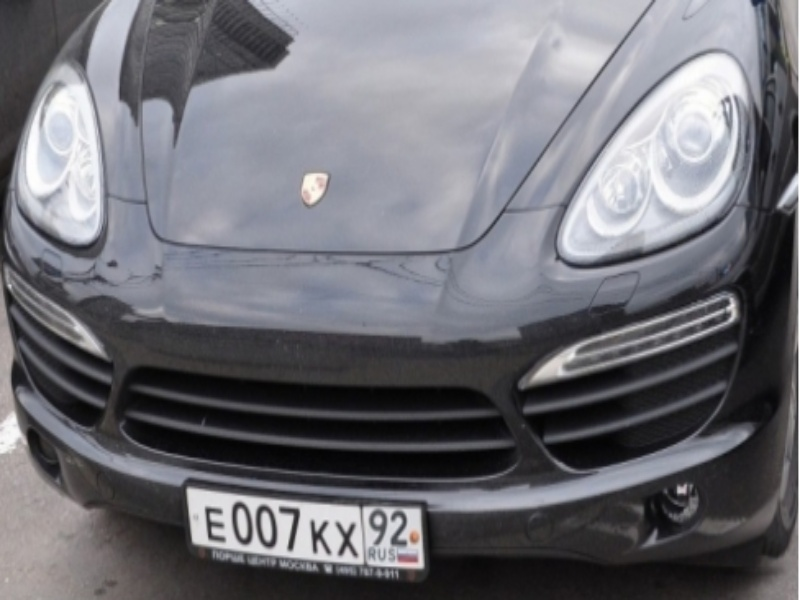car: (1, 1, 800, 600)
plate: (185, 484, 422, 568)
